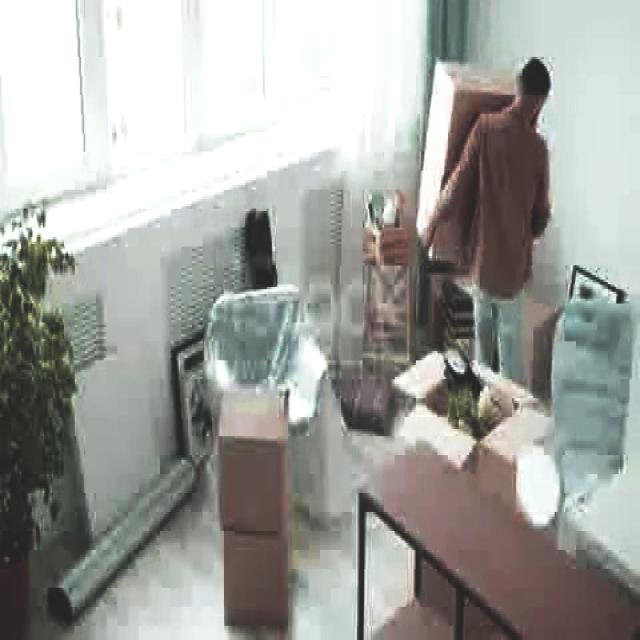Box: (213, 384, 283, 528), (222, 531, 286, 619)
